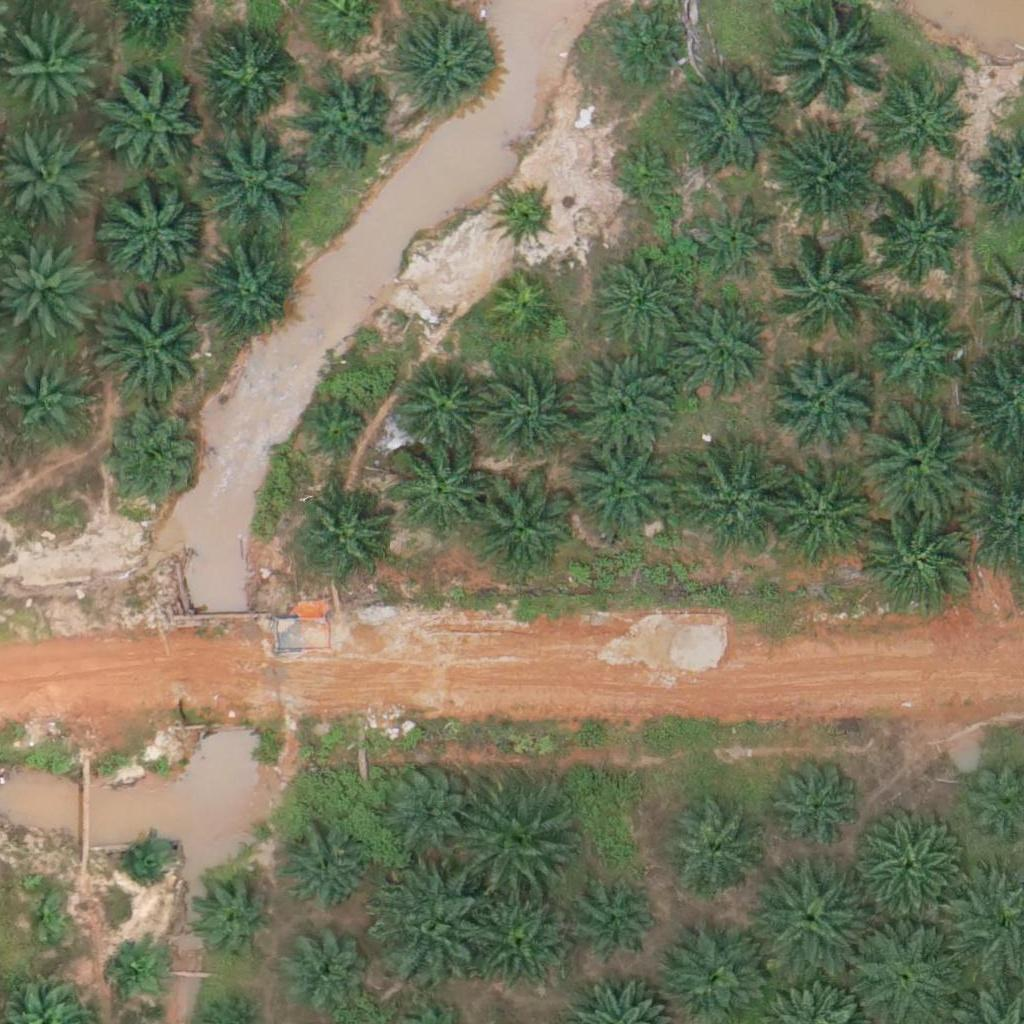Kelapa_Sawit: (848, 812, 961, 925), (862, 506, 975, 619), (669, 69, 782, 182), (567, 347, 680, 460), (564, 435, 677, 548), (466, 474, 579, 587), (195, 120, 308, 233), (96, 64, 209, 177), (100, 175, 213, 288), (774, 227, 886, 341), (672, 444, 784, 558), (760, 861, 872, 974), (462, 790, 574, 903), (372, 869, 484, 982), (861, 406, 973, 519), (762, 463, 874, 576), (765, 124, 877, 237), (99, 287, 211, 400), (766, 755, 866, 856), (468, 888, 568, 989), (374, 755, 474, 856), (867, 190, 967, 291), (769, 352, 869, 453), (669, 303, 769, 404), (477, 369, 577, 470), (392, 360, 492, 461), (194, 241, 294, 342), (294, 486, 394, 587), (102, 414, 202, 515), (665, 805, 765, 905), (867, 294, 967, 394), (394, 18, 494, 118), (592, 251, 692, 351), (387, 440, 487, 540), (300, 71, 400, 171), (692, 197, 780, 285), (597, 5, 685, 93), (205, 38, 293, 126), (280, 826, 367, 915), (574, 879, 661, 967), (280, 925, 367, 1013), (190, 873, 277, 961), (879, 86, 966, 174), (8, 359, 95, 447), (609, 136, 684, 211), (485, 274, 560, 349), (300, 398, 375, 473), (494, 187, 557, 250), (112, 942, 162, 993), (119, 832, 169, 882), (22, 895, 72, 945)
